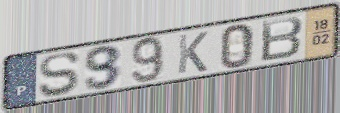0: (218, 22, 256, 70)
9: (83, 43, 125, 92), (129, 35, 167, 86)
B: (259, 15, 305, 64)
K: (176, 29, 210, 76)
S: (37, 50, 82, 99)
